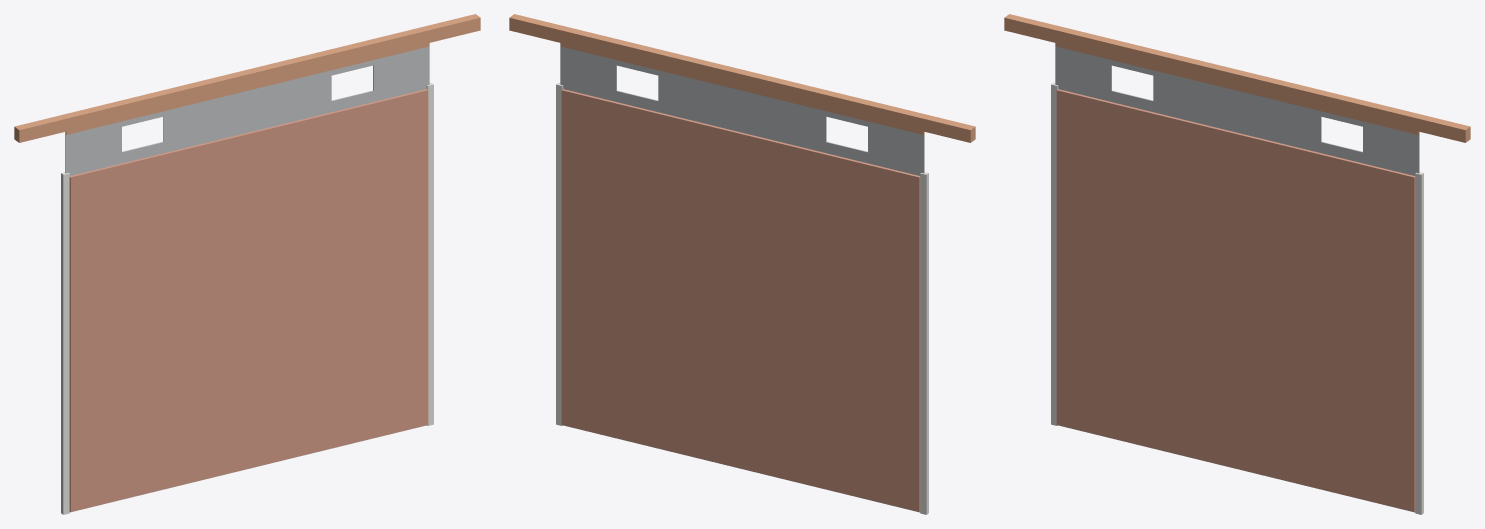
Rendered from SM_PermanentCathode.fbx.
The picture shows the model from 3 angles, left to right: view 1: azimuth 30°, elevation 25°; view 2: azimuth 150°, elevation 25°; view 3: azimuth 330°, elevation 25°; orthographic projection.
Parts seen in each view (by area): view 1: CA_DepositFront, CA_Plate; view 2: CA_DepositBack, CA_Plate; view 3: CA_DepositFront, CA_Plate.
Part boxes in pixels (<box>): CA_DepositFront: <box>69,89,428,511</box>; CA_Plate: <box>14,14,480,514</box>; CA_DepositBack: <box>561,89,920,511</box>; CA_Plate: <box>509,14,975,514</box>; CA_DepositFront: <box>1056,89,1415,511</box>; CA_Plate: <box>1004,14,1470,514</box>.
Size of the model in its own units: 132 by 108 by 2.5.
